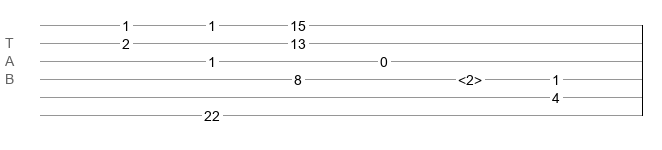0: (380, 54, 388, 64)
1: (122, 18, 130, 28), (208, 54, 216, 64), (208, 18, 216, 28), (552, 72, 560, 82)
13: (290, 36, 306, 46)
15: (290, 18, 306, 28)
2: (122, 36, 130, 46)
22: (204, 108, 220, 118)
4: (552, 90, 560, 100)
8: (294, 72, 302, 82)
harmonic: (458, 72, 482, 82)
